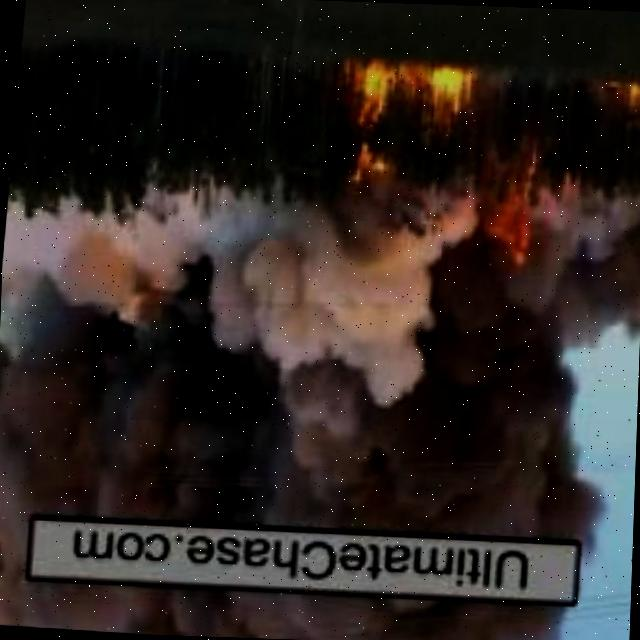fire: (337, 59, 461, 194), (476, 160, 544, 284), (595, 84, 640, 116)
